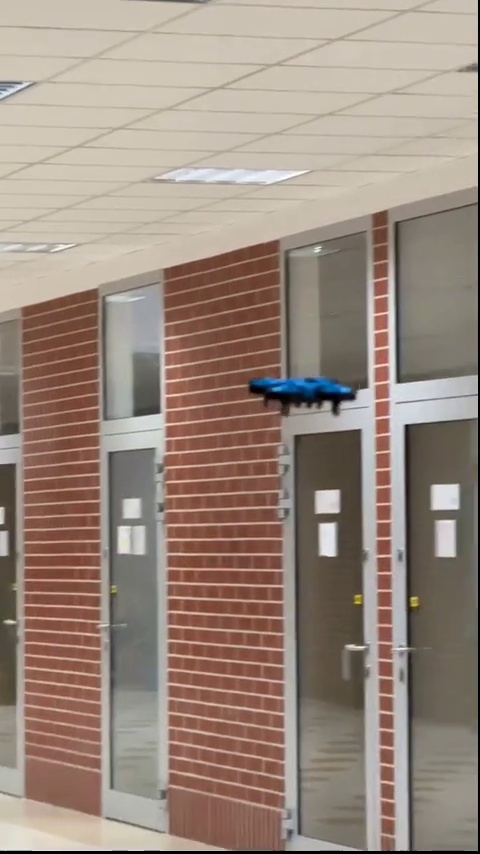drone: (249, 371, 355, 416)
